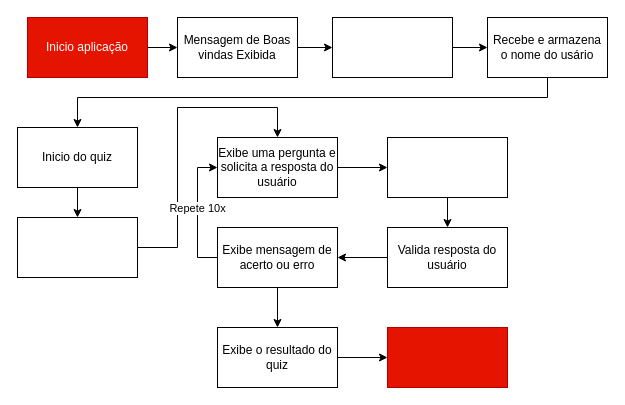
The diagram is 625 pixels wide and 405 high, and some of its shapes have lost their labels. Here are the shapes that lost their labels. From the top down, the centre of each, then its label:
At (x=392, y=47): "Solicitado o nome do usuário".
At (x=447, y=167): "Recebe resposta do usuário".
At (x=77, y=247): "Seleciona 10 perguntas".
At (x=447, y=357): "Fim do quiz e da apicação".
